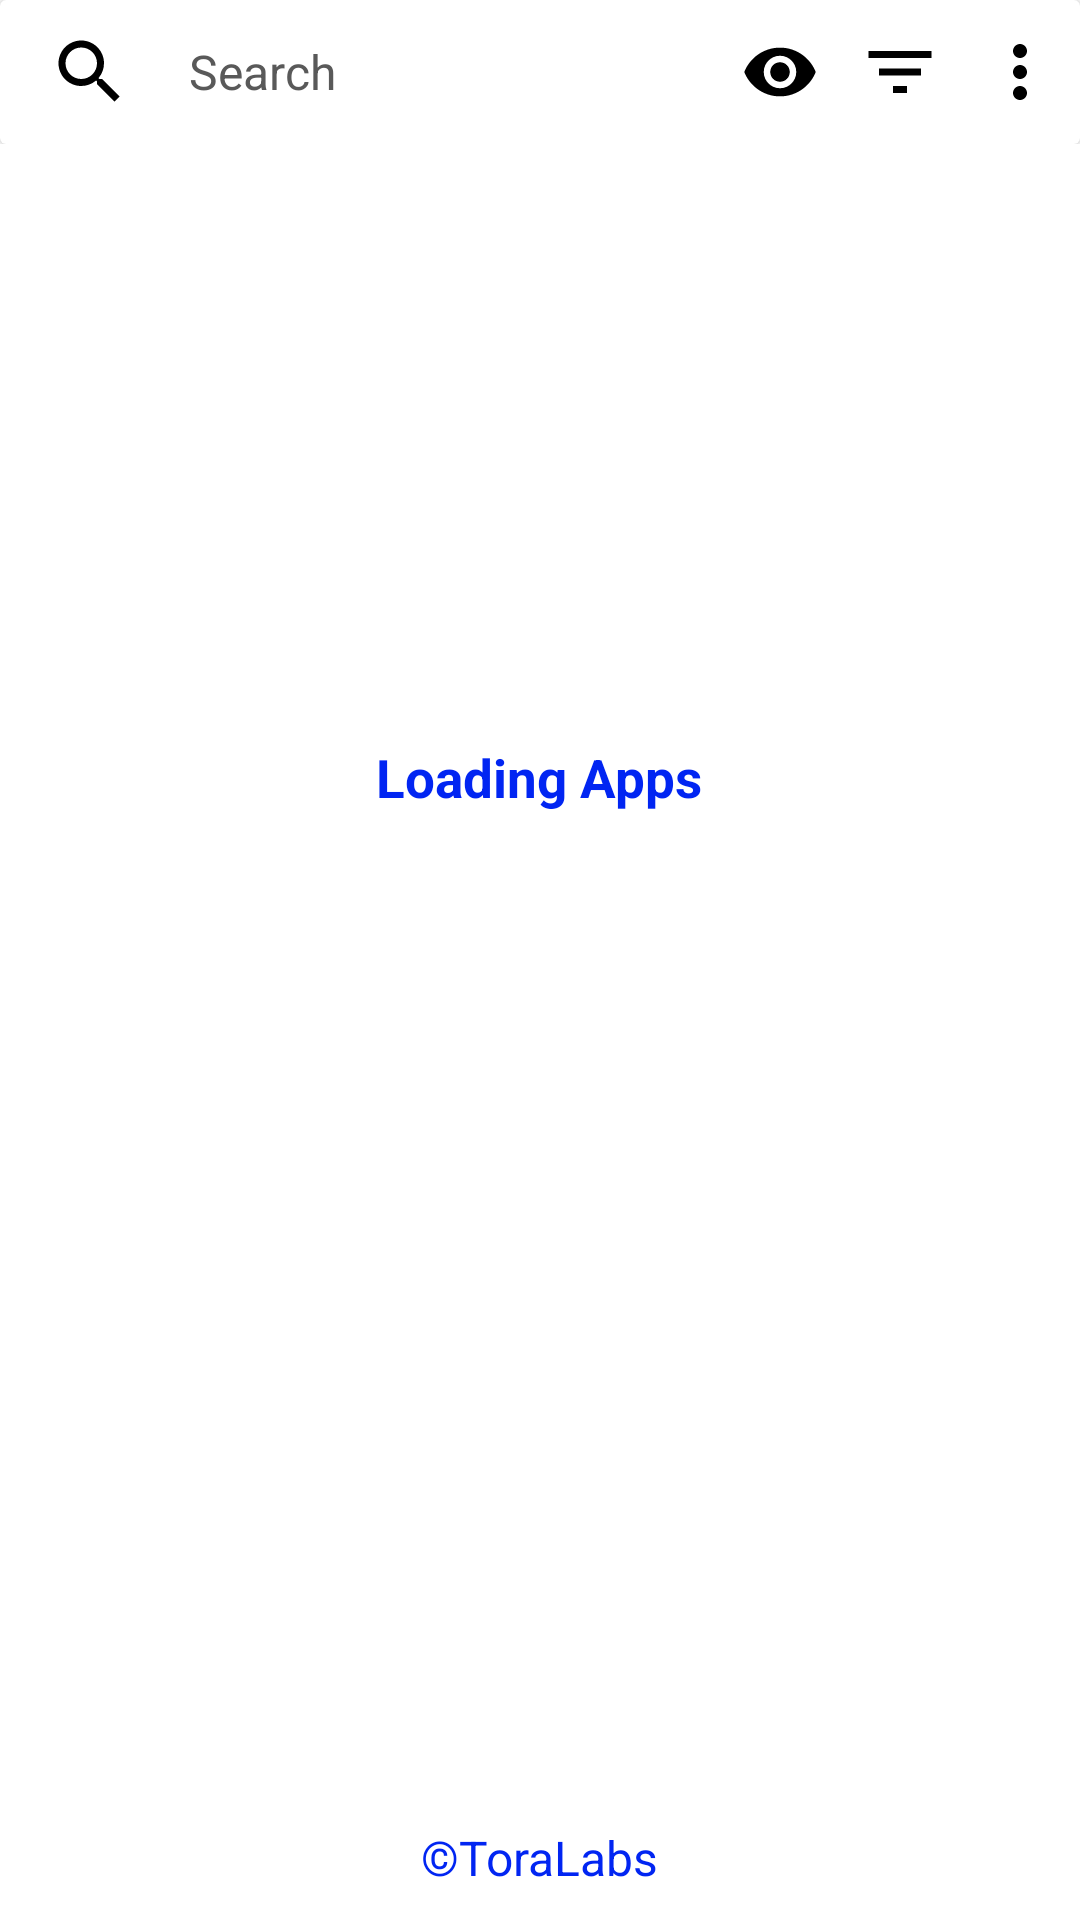

Locate icon controls on the screen. Image size 1080*1920, boxes as box(x1, y1, x2, y2).
eye: box(744, 47, 816, 97)
filter: box(868, 51, 932, 93)
more: box(1013, 44, 1027, 100)
